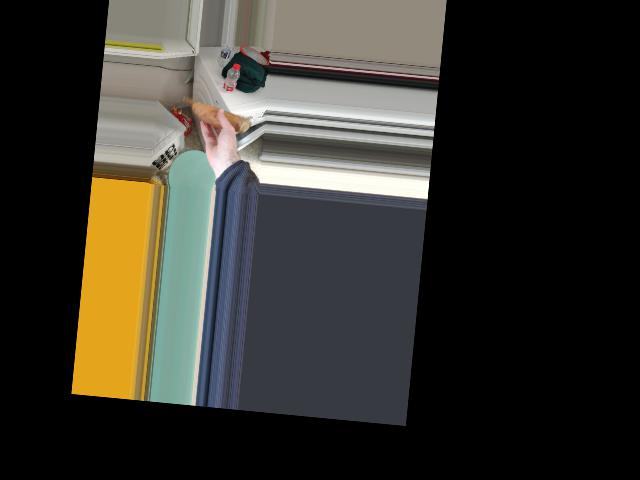sweet_potato: (182, 94, 248, 135)
